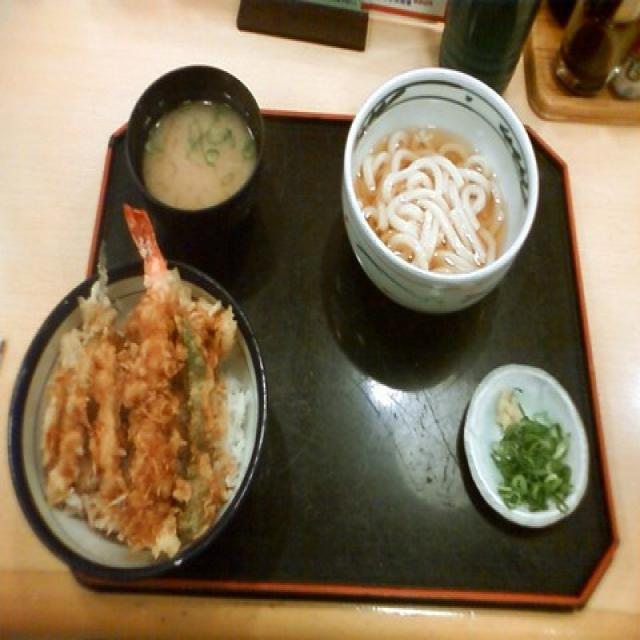汤锅炖物: (120, 59, 264, 240)
熟制海鲜: (4, 203, 268, 581)
面条主食: (340, 69, 540, 320)
